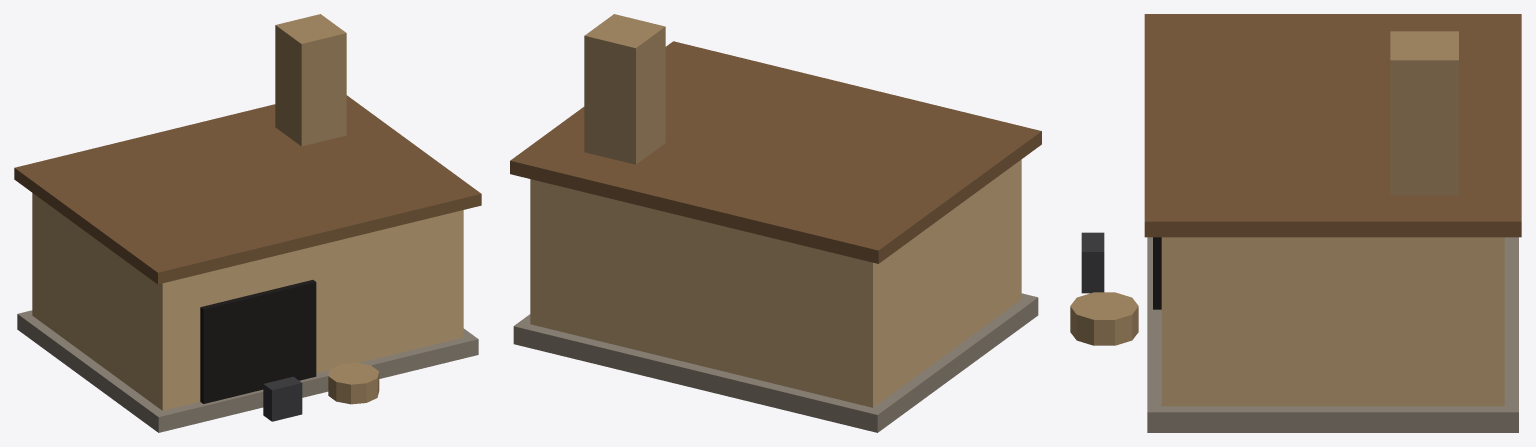
File: smithy.glb
3 views of the same model, side by side, from view 1: azimuth 30°, elevation 25°; view 2: azimuth 150°, elevation 25°; view 3: azimuth 270°, elevation 25° (orthographic). The views are drawn at different scales.
Visible parts, largest first — view 1: Smithy; view 2: Smithy; view 3: Smithy.
Boxes of the visible parts, left/top/right/bottom form: Smithy: left=14, top=14, right=481, bottom=432; Smithy: left=510, top=14, right=1041, bottom=432; Smithy: left=1070, top=14, right=1521, bottom=432.
Bounding box in the file's own units: 8.6 × 6.7 × 7.9.
